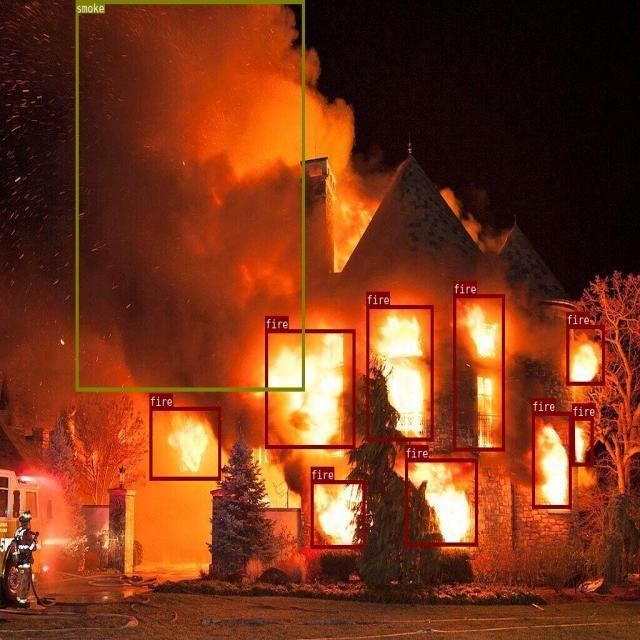fire: (265, 328, 354, 448), (366, 305, 433, 440), (453, 294, 504, 450), (405, 458, 477, 546), (149, 406, 220, 479), (532, 411, 571, 508), (310, 480, 365, 548), (566, 324, 604, 385), (571, 417, 593, 466)
smoke: (75, 0, 304, 391)
